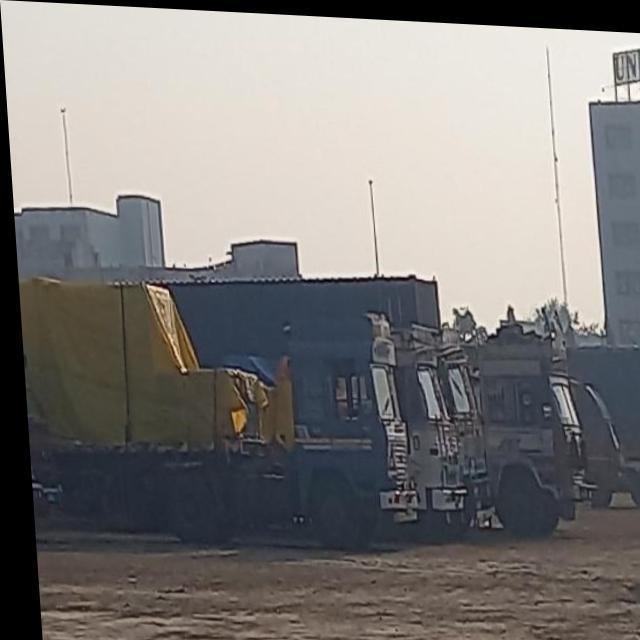covered: (13, 252, 285, 524)
